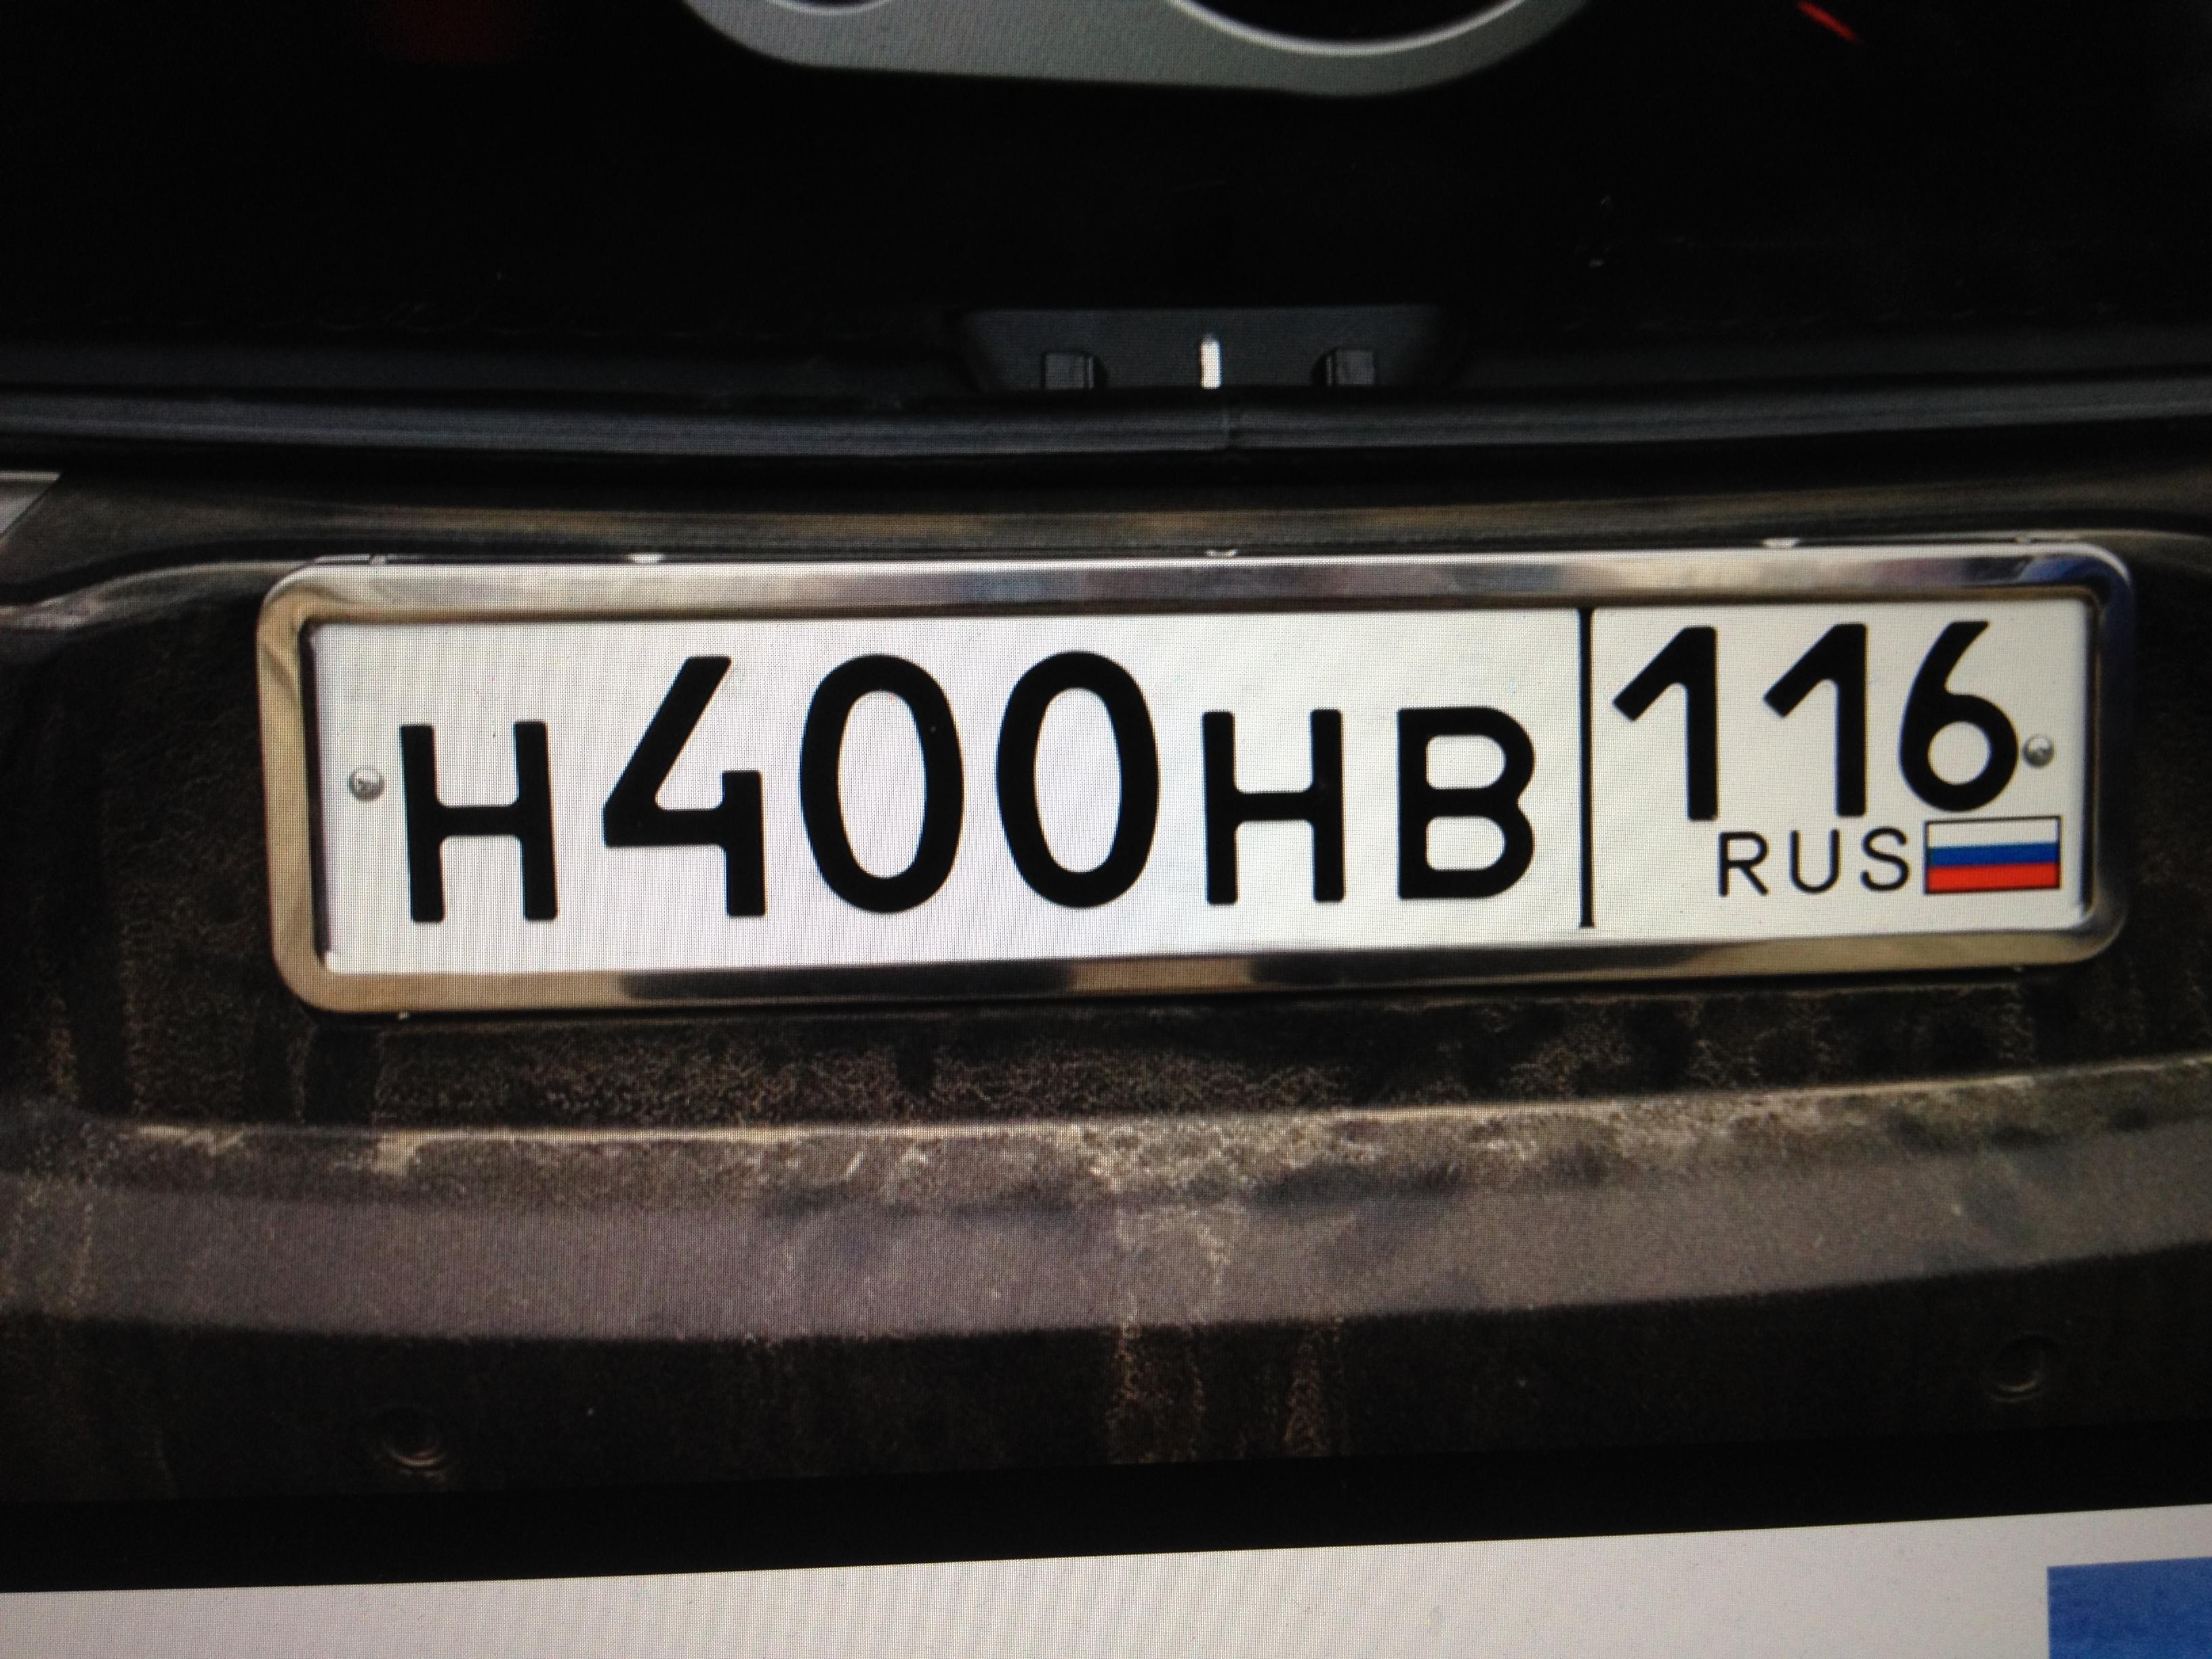license-plateSW: (285, 600, 2112, 989)
